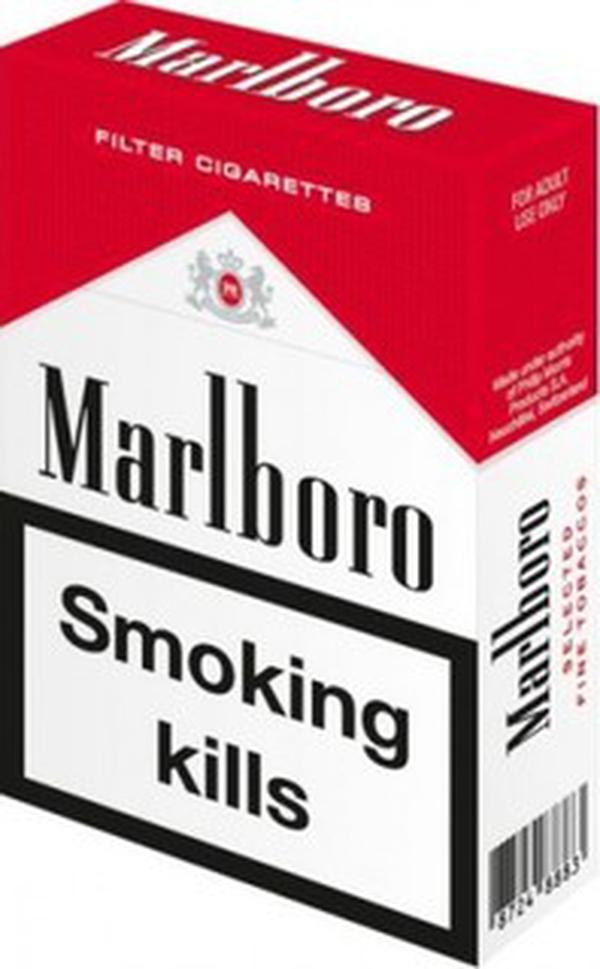marlboro_red: (1, 118, 477, 812)
